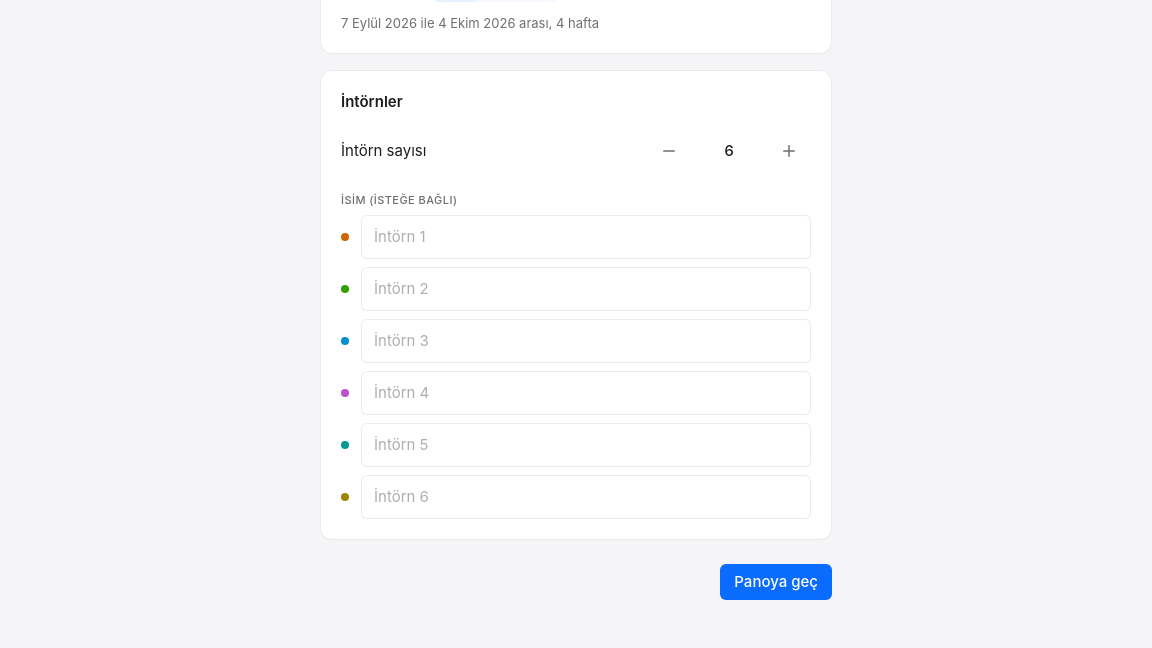
Test: import menu and solo mode › holds both import paths, and export no longer does
(page scrolled)
Step 1. Click the button "Panoya geç" → (776, 582), box left=720, top=564, right=832, bottom=600
(page scrolled)
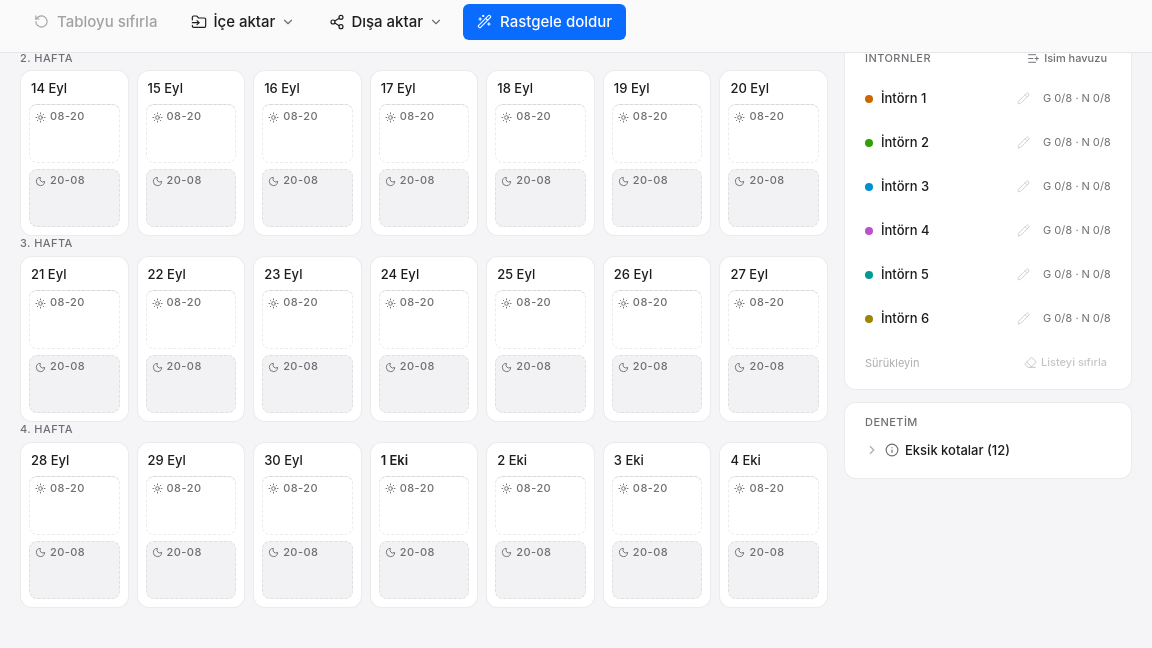
Step 2. Click the button "İçe aktar" → (243, 22), box left=177, top=4, right=309, bottom=40
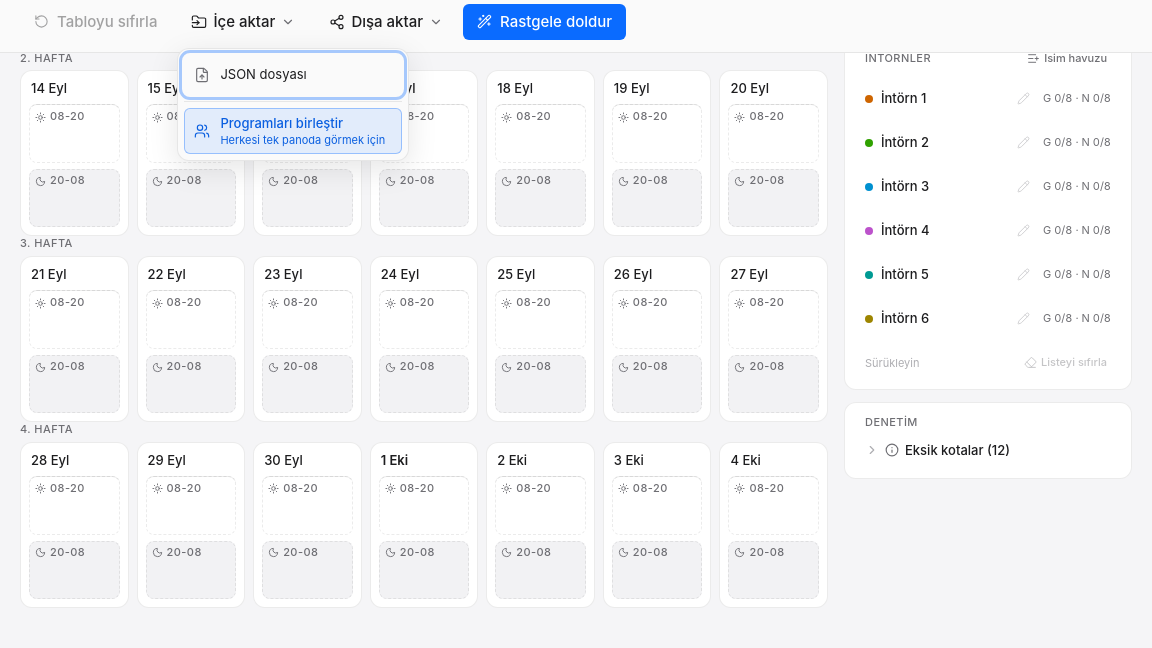
Expected: the menu item "JSON dosyası" is shown, left=184, top=55, right=402, bottom=95
Expected: the menu item "Programları birleştir Herkesi tek panoda görmek için" is shown, left=184, top=108, right=402, bottom=154
Step 3. Press Escape
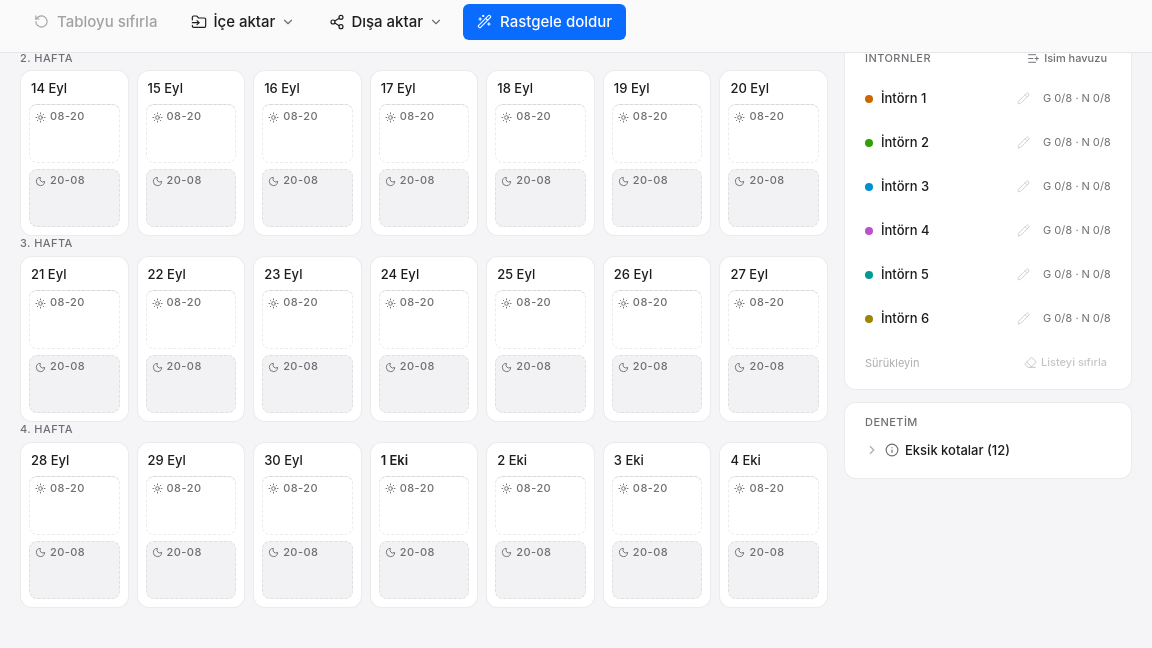
Step 4. Click the button "Dışa aktar" → (386, 22), box left=315, top=4, right=457, bottom=40
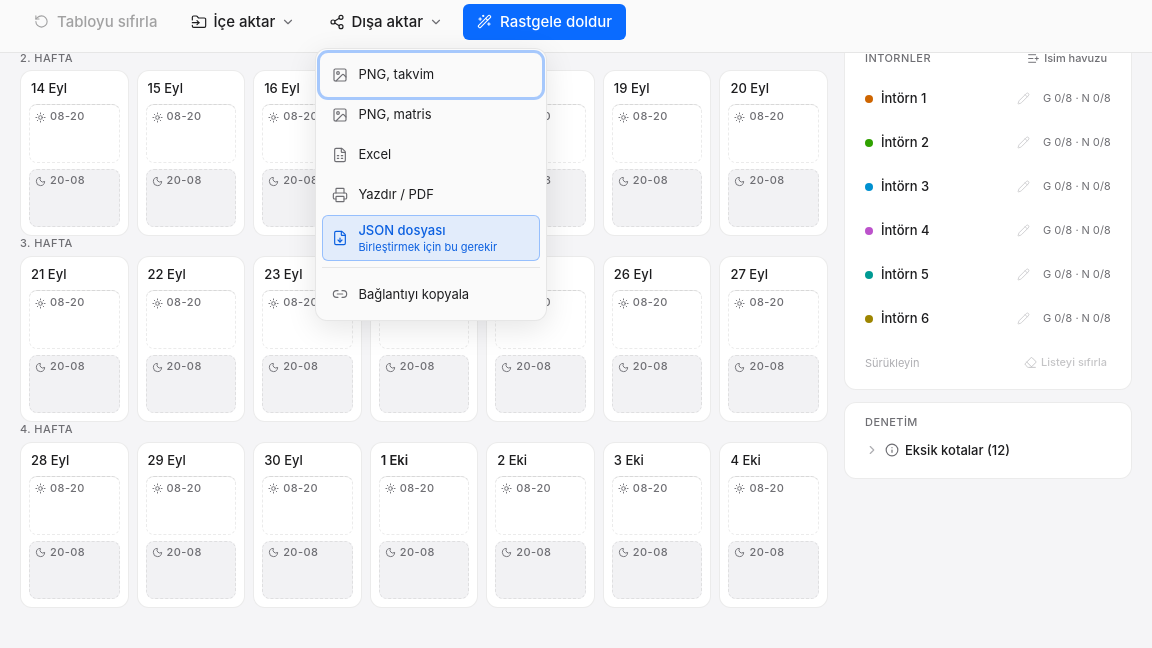
Expected: the menu item "Excel" is shown, left=322, top=135, right=540, bottom=175
